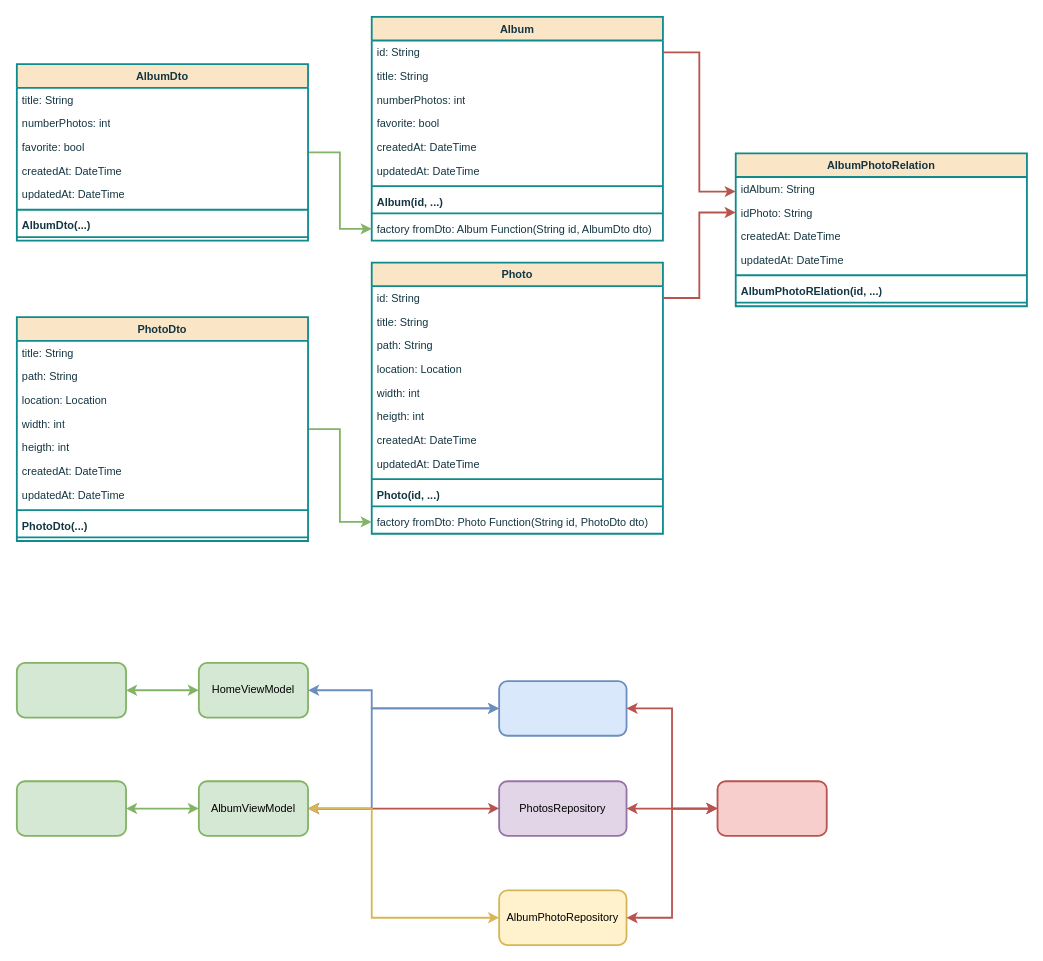
Some shapes in this 1043 by 961 pixel diagram are drawn without their labels. The shapes that lost their labels are listed below. From the top down, each one's centre as x and y in pixels, then its label:
point (70, 690): HomeView
point (562, 708): AlbumRepository
point (70, 808): AlbumView
point (771, 808): DatabaseService
